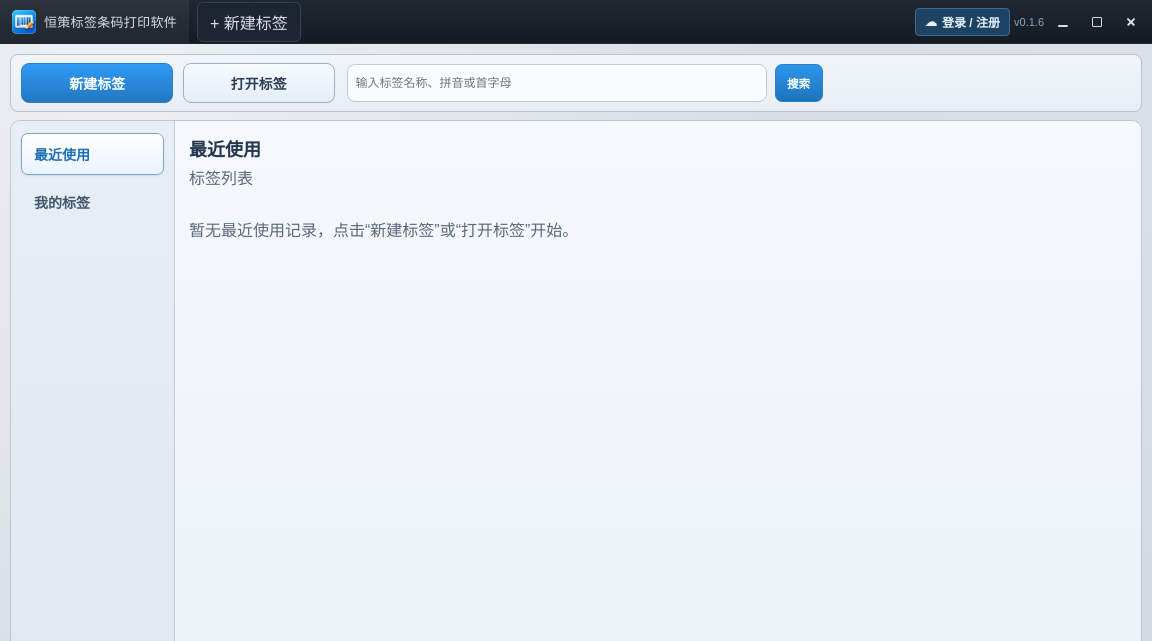
Scenario: App shell › does not trigger drag when pressing a tab button
Later steps or results of the test are not shown.
Click the button with class "new-tab": (249, 22) left=197, top=2, right=301, bottom=42
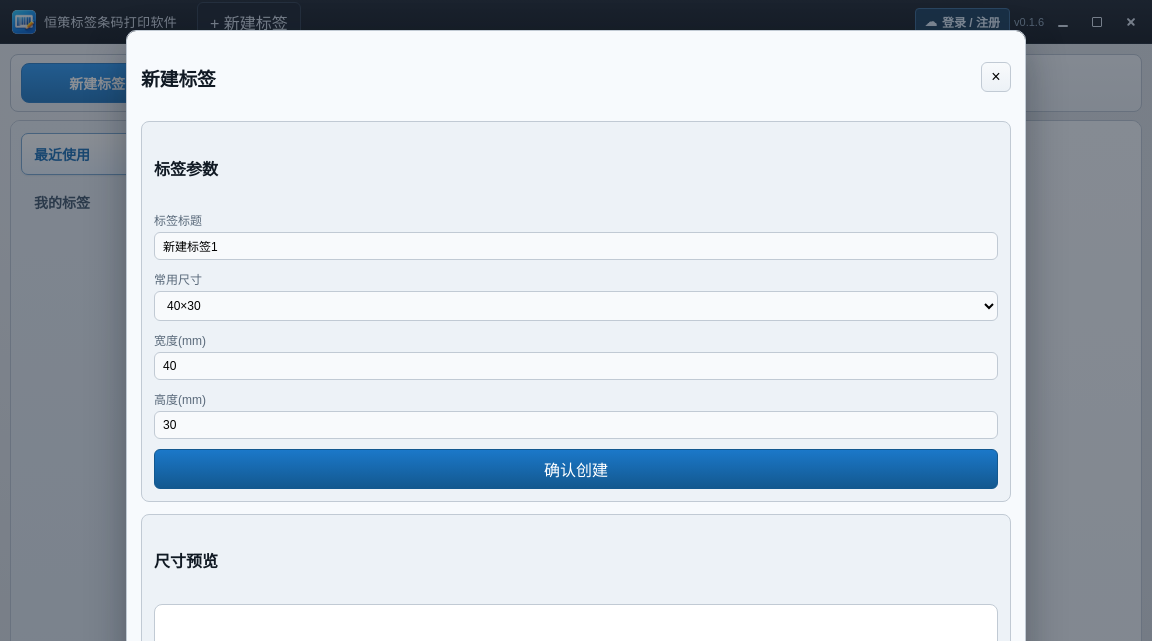
Expected: the button "确认创建" is shown
Click the button "确认创建": (576, 469) left=154, top=449, right=998, bottom=489
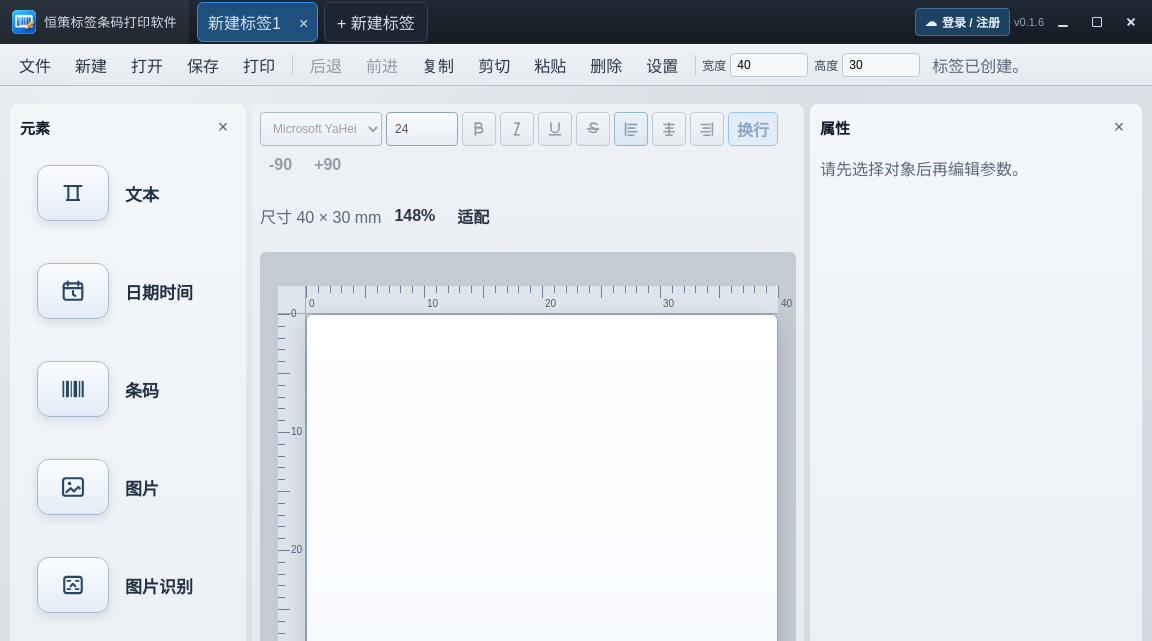
Expected: the button "新建标签1" is shown, left=200, top=4, right=289, bottom=38
